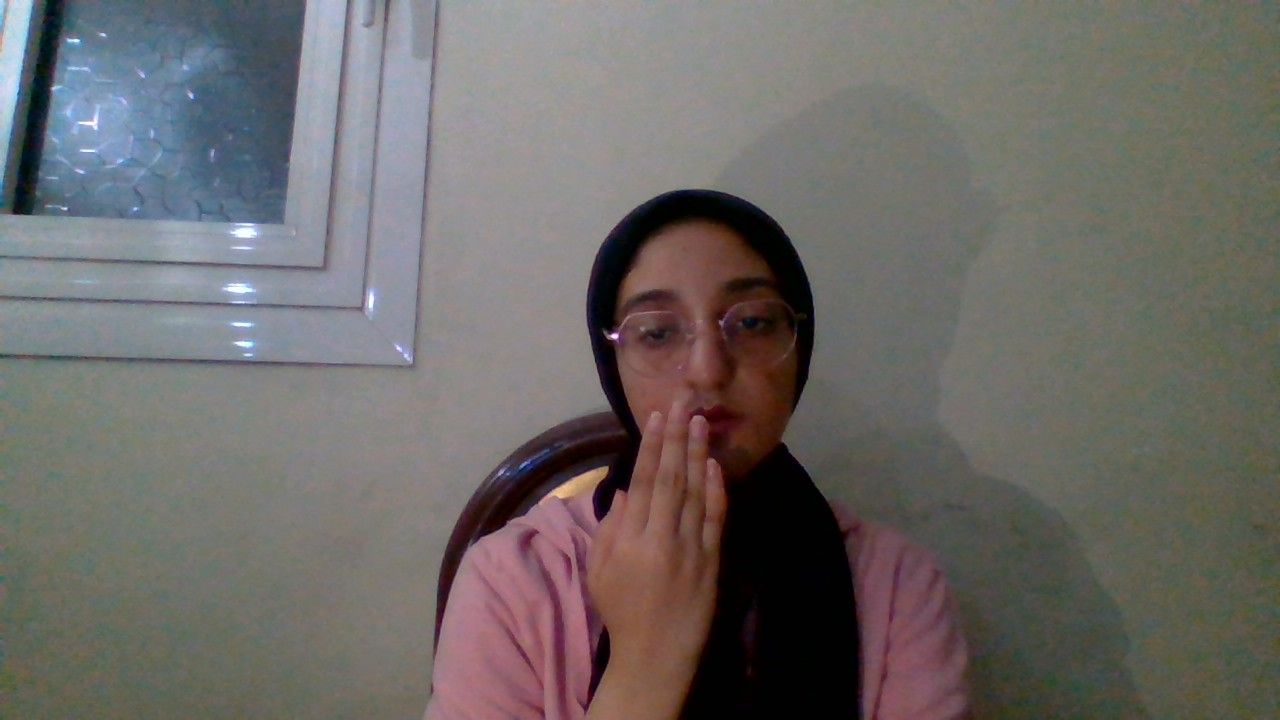thankyou: (526, 389, 829, 668)
